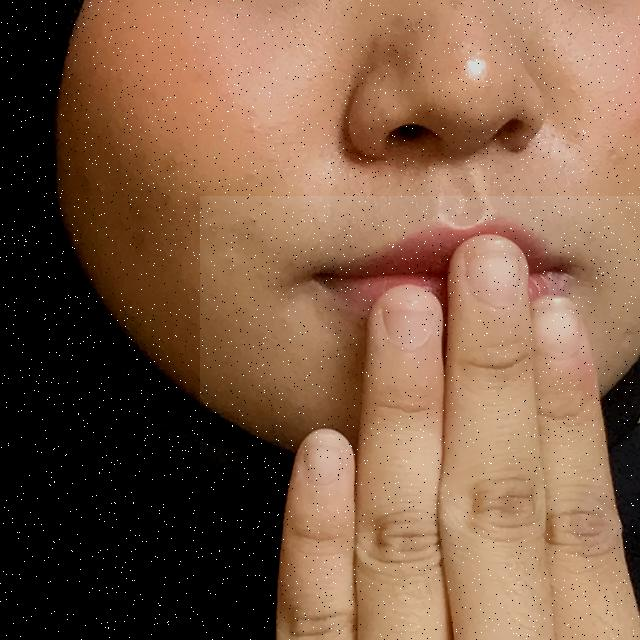ganteng: (200, 196, 640, 640)
